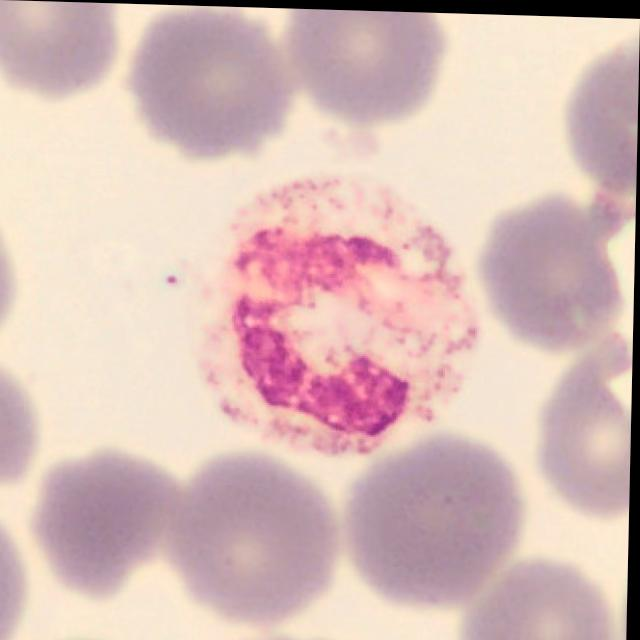Restos celulares: (184, 166, 482, 457)
